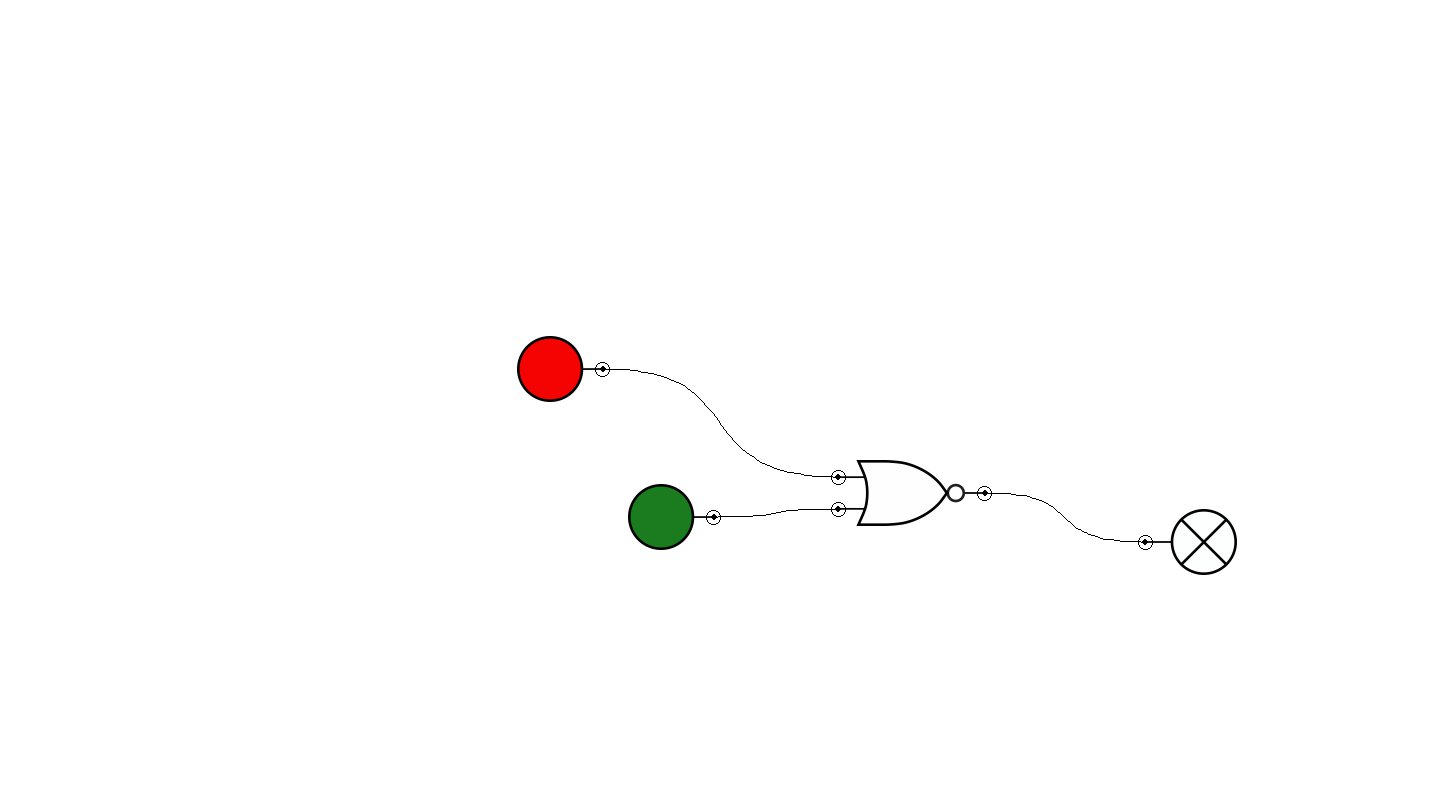bulb: (1138, 509, 1237, 575)
nor: (831, 460, 992, 526)
switch_False: (517, 336, 610, 402)
switch_True: (628, 484, 721, 550)
